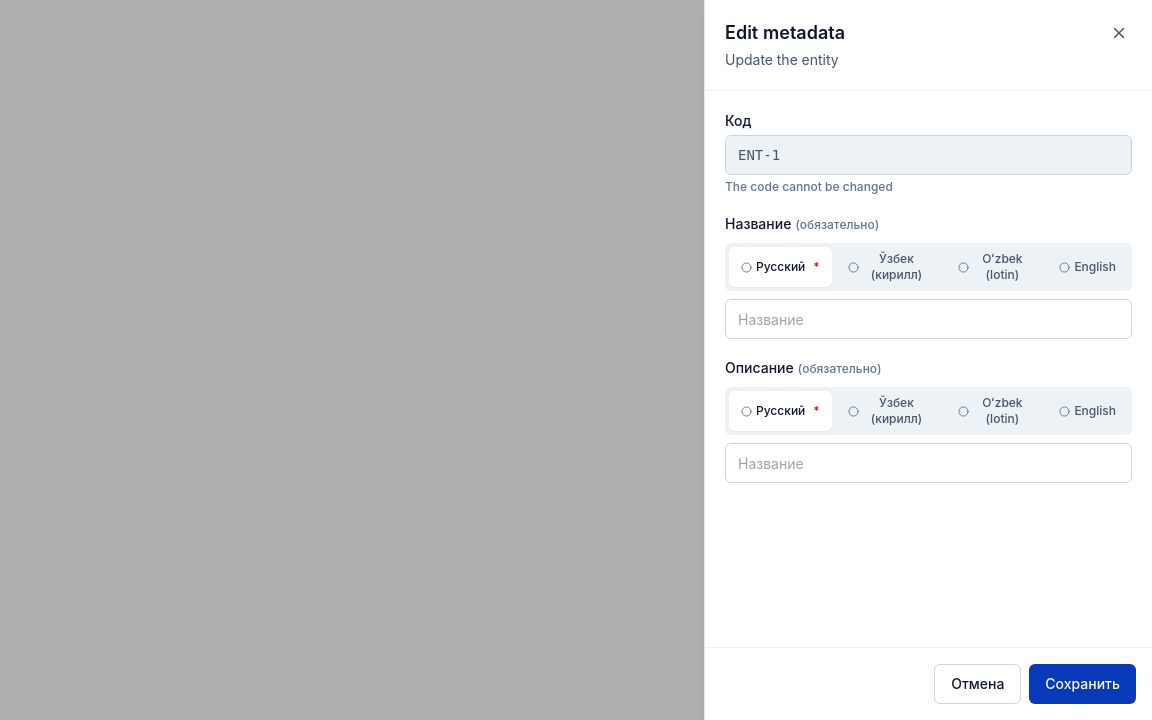
it: <TemplateMetadataDrawer /> (shared) › blocks submit and shows nameRequiredError when validateName fails
Click the button "Сохранить": (1083, 684) [1029, 664, 1136, 704]
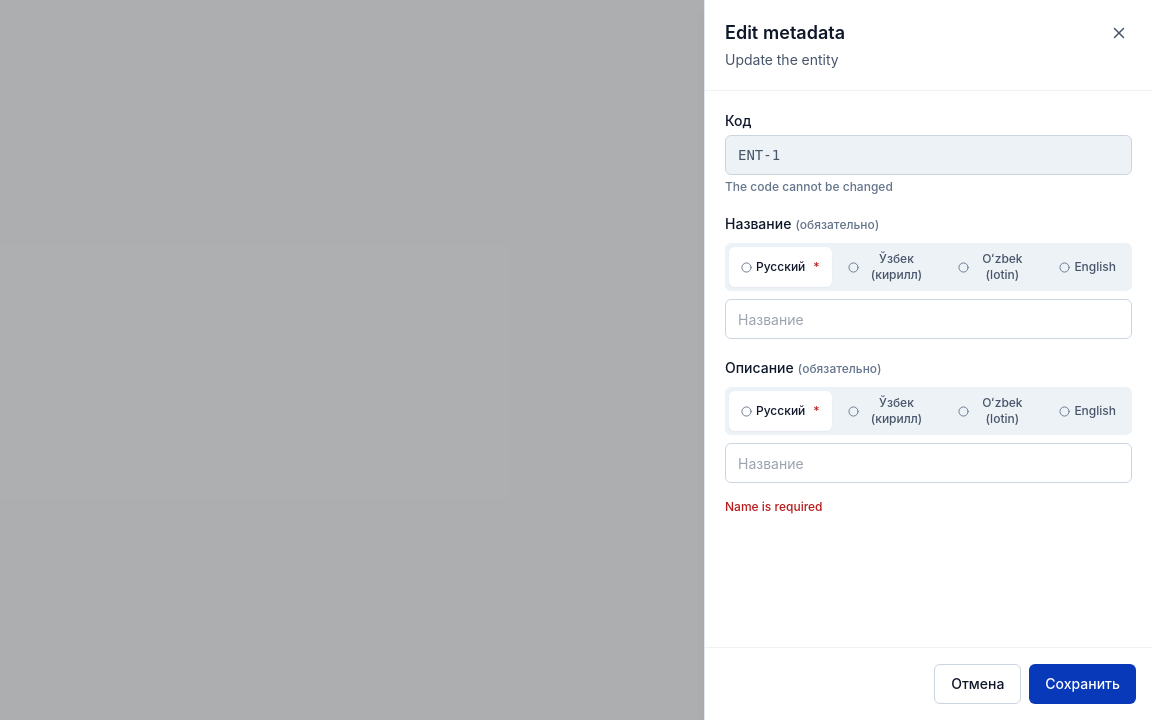
Result: the message with test id "fake-metadata-error" reads "Name is required" at [725, 499, 822, 514]
